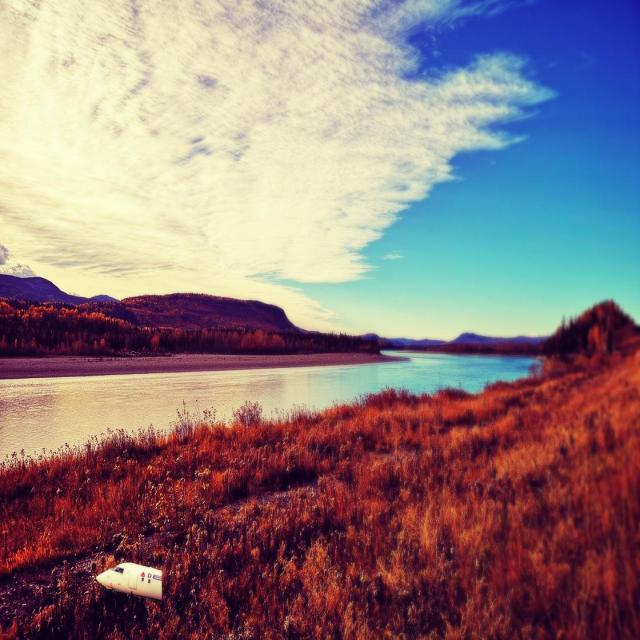airplane: (95, 561, 162, 600)
